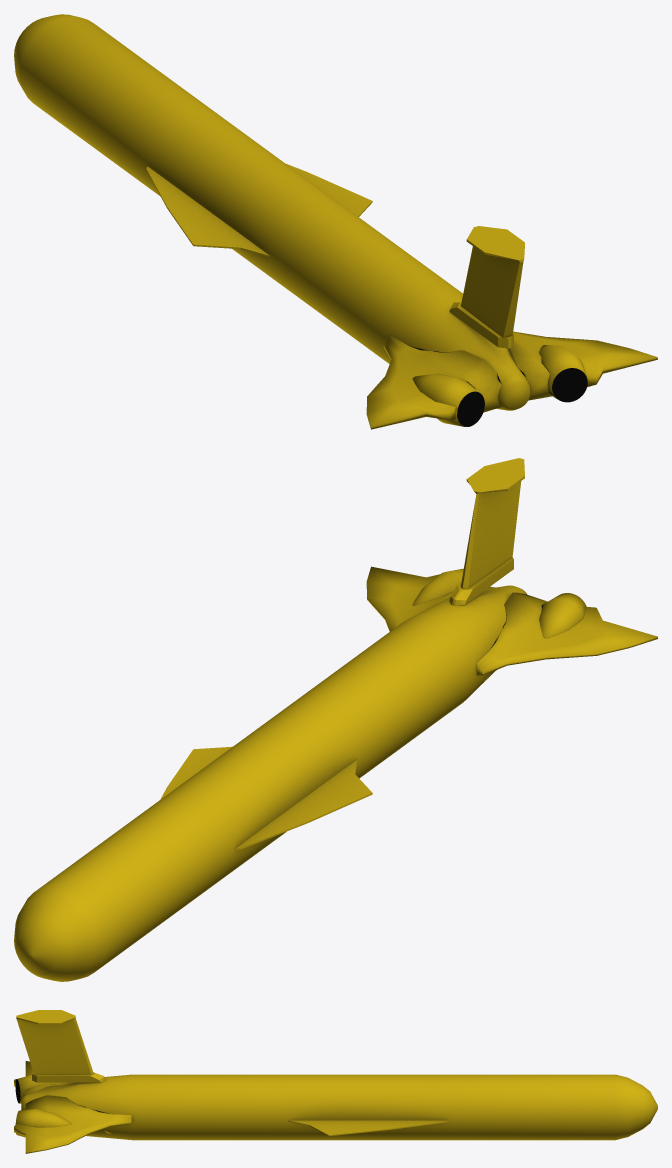
The model's file is glider_hybrid_whoi_body.dae.
3 views of the same model, one above another, from view 1: azimuth 30°, elevation 25°; view 2: azimuth 150°, elevation 25°; view 3: azimuth 270°, elevation 25° (orthographic). The views are drawn at different scales.
Visible parts, largest first — view 1: Hybrid-Glider; view 2: Hybrid-Glider; view 3: Hybrid-Glider.
Part boxes in pixels (box(x1,y1,x2,y2)): Hybrid-Glider: box(14, 14, 657, 429); Hybrid-Glider: box(14, 458, 657, 981); Hybrid-Glider: box(14, 1010, 657, 1153).
Bounding box in the file's own units: 0.2867 × 0.8518 × 0.1762.
Materials: 1 (1 with a texture image).
